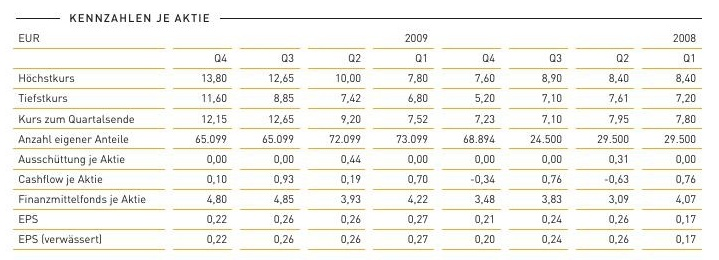table: (0, 0, 719, 260)
